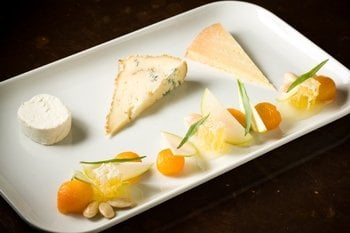pasta: (17, 93, 73, 145)
taco: (156, 148, 185, 177)
